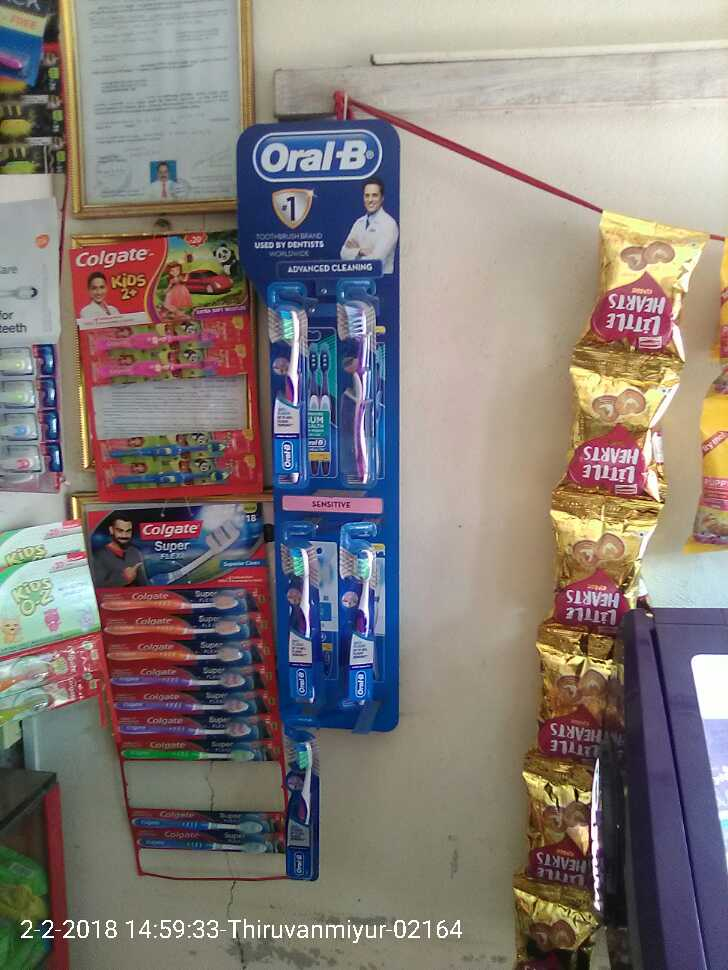oralb: (329, 307, 377, 482), (279, 543, 325, 705), (340, 522, 379, 710), (270, 312, 311, 486)
